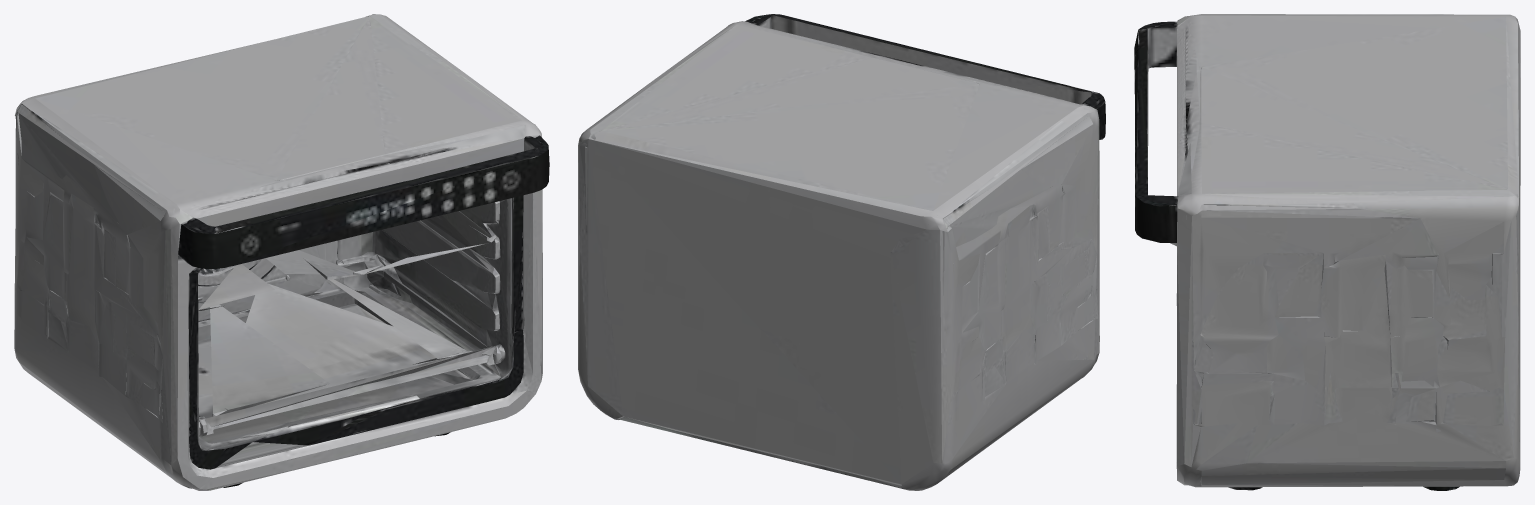
The model's file is ninja-food-processors-dt203.glb.
The picture shows the model from 3 angles, left to right: view 1: azimuth 30°, elevation 25°; view 2: azimuth 150°, elevation 25°; view 3: azimuth 270°, elevation 25°; orthographic projection. The views are drawn at different scales.
Size of the model in its own units: 1.9 by 1.46 by 1.59.
Materials: 1 (1 with a texture image).
